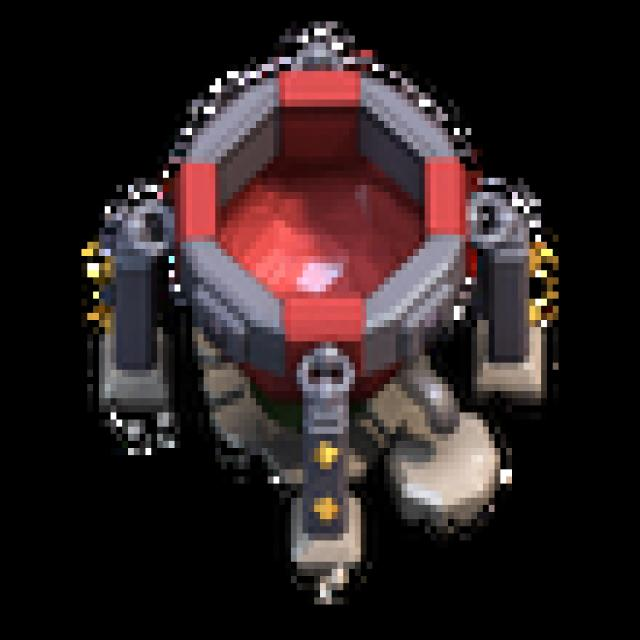dark_spell_factory: (75, 24, 570, 607)
